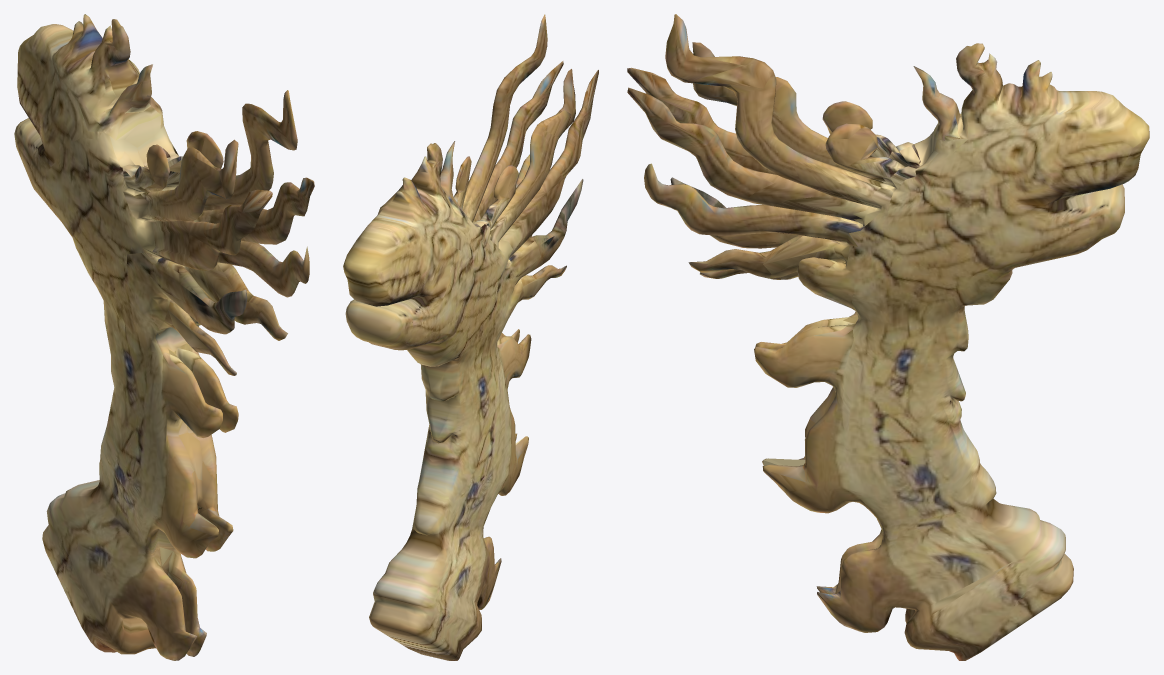
File: rong_viensau_2.glb
3 views of the same model, side by side, from view 1: azimuth 30°, elevation 25°; view 2: azimuth 150°, elevation 25°; view 3: azimuth 270°, elevation 25° (orthographic). The views are drawn at different scales.
Parts seen in each view (by area): view 1: Rong; view 2: Rong; view 3: Rong.
Boxes of the visible parts, x1=… form: Rong: x1=14, y1=14, x2=314, y2=660; Rong: x1=343, y1=14, x2=598, y2=660; Rong: x1=627, y1=14, x2=1149, y2=660.
Bounding box in the file's own units: 0.3208 × 2.5 × 1.83.
1 material, 1 textured.
